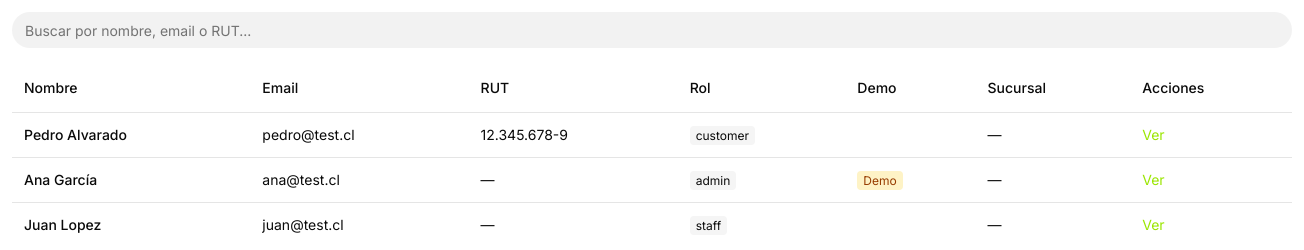
Test: UsersListClient › filters case-insensitively by name (S20)
Type "pedro" into the field. click: (652, 30)
box: [12,12,1292,48]
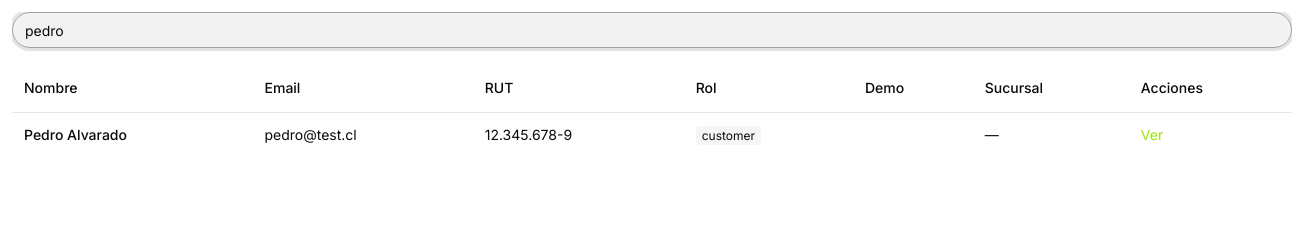
Expected: the text "Pedro Alvarado" is shown, [12,112,252,156]
Expected: the text "Ana García" is gone
